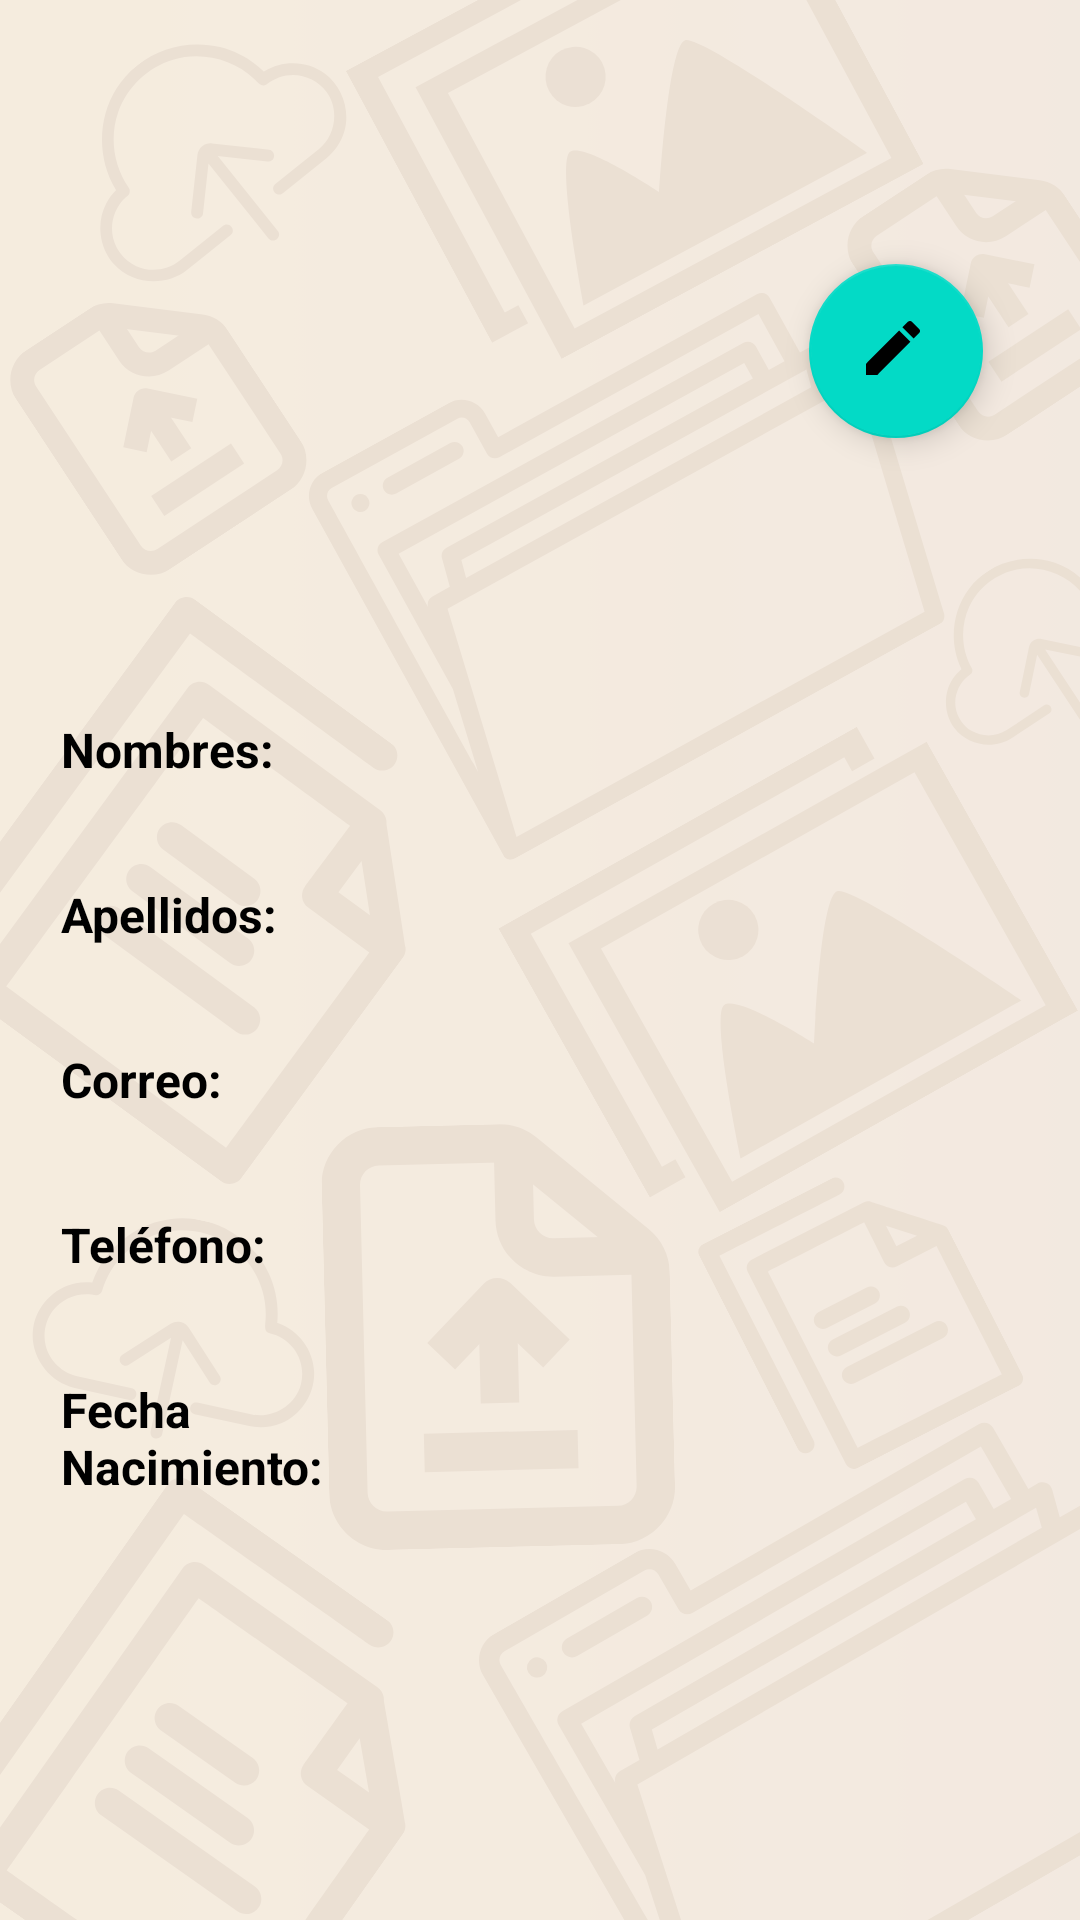

Screen size 1080px×1920px. Icon name, then its box in pixels as {"left": x1, "top": y1, "right": x2, "bottom": y2}:
edit: {"left": 809, "top": 264, "right": 983, "bottom": 438}
